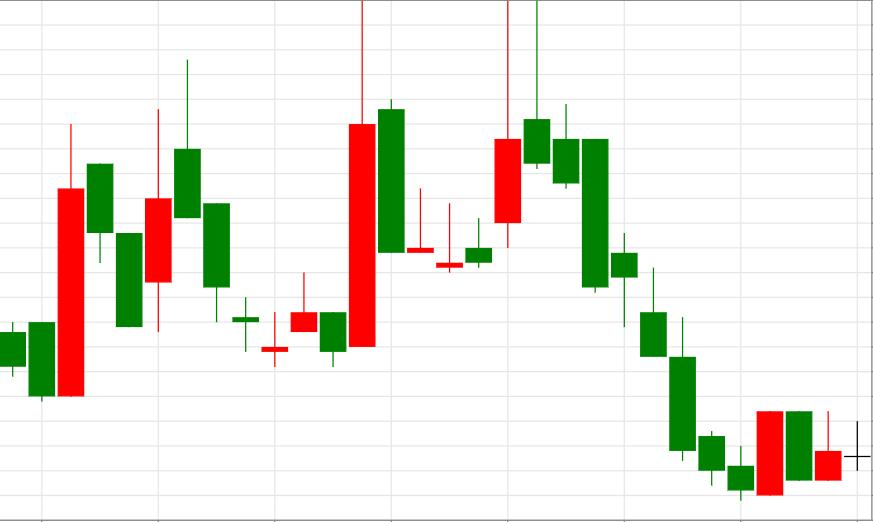shooting_star_fall: (436, 0, 550, 273)
